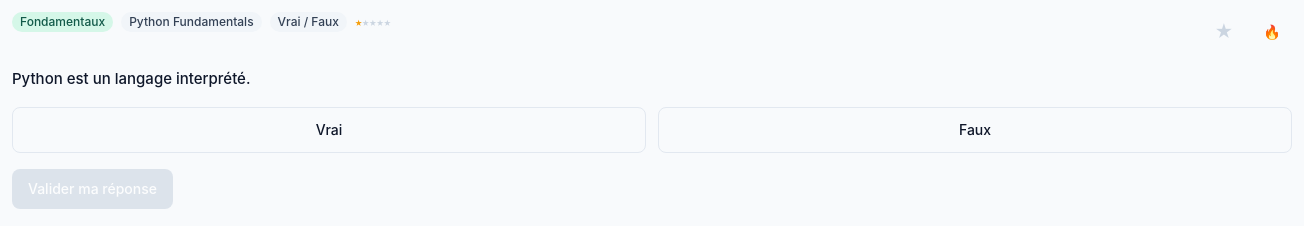
it: QuestionPlayer — exam mode › hides hints, course help and the explanation panel
Click the button "Vrai". click: [329, 130]
box: [12,106,646,152]
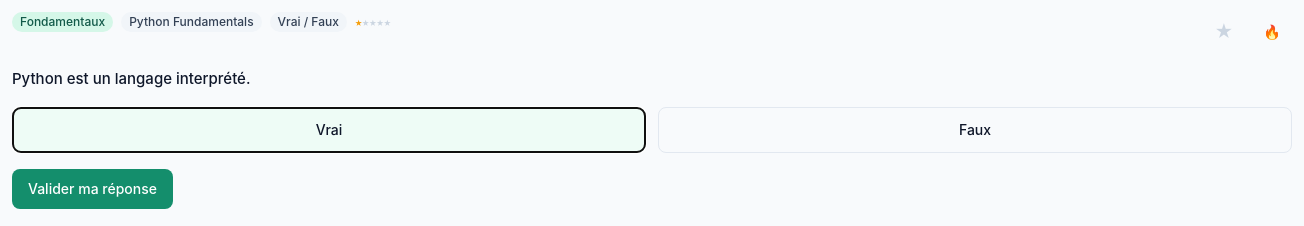
Click the button "Valider ma réponse". click: [92, 188]
box: [12,168,173,208]
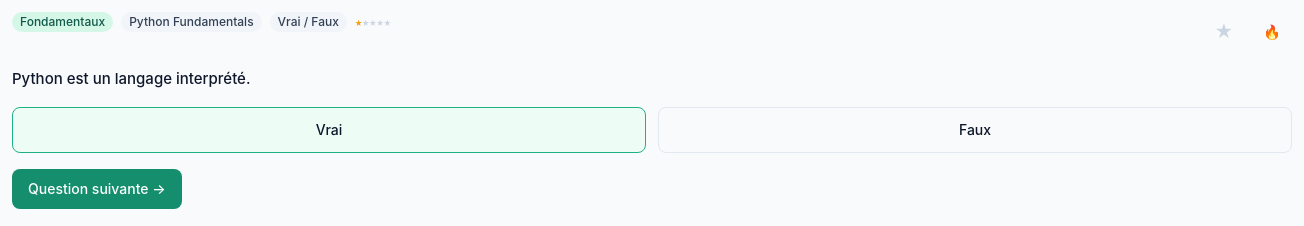
Expected: the button "Question suivante →" is shown, [12,168,182,208]
